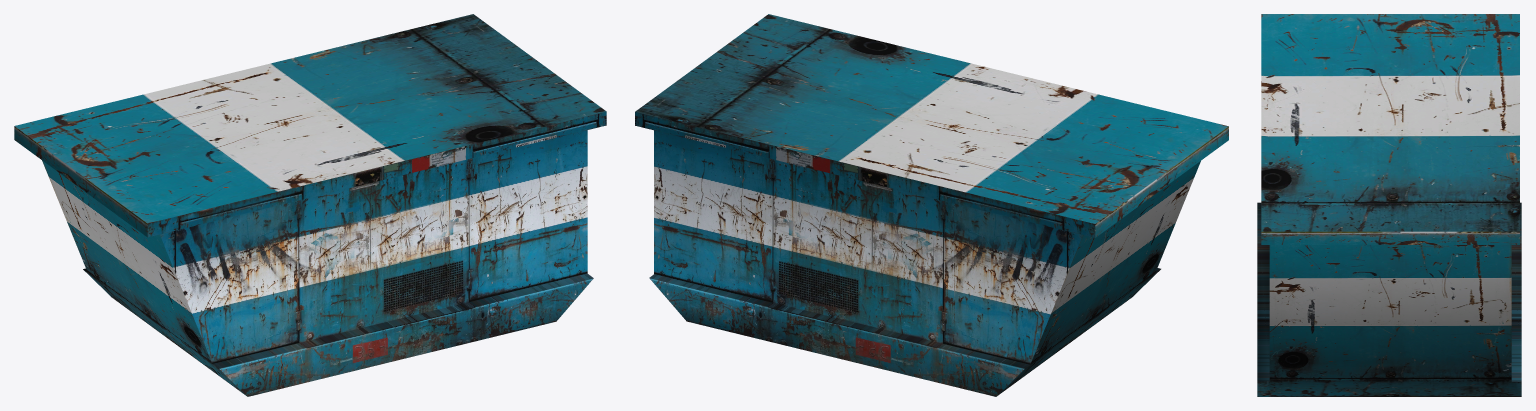
File: industrial34.obj
The picture shows the model from 3 angles, left to right: view 1: azimuth 30°, elevation 25°; view 2: azimuth 150°, elevation 25°; view 3: azimuth 270°, elevation 25°; orthographic projection. The views are drawn at different scales.
Parts seen in each view (by area): view 1: industrial34; view 2: industrial34; view 3: industrial34.
Part boxes in pixels (x1,y1,x2,y2): industrial34: (14, 14, 606, 396); industrial34: (635, 14, 1228, 396); industrial34: (1257, 14, 1521, 396).
Bounding box in the file's own units: 160 × 65.16 × 81.97.
Materials: 1 (1 with a texture image).
